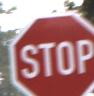Stop sign: (0, 0, 93, 95)
